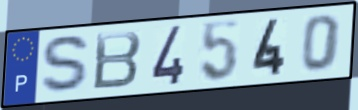0: (299, 12, 342, 74)
4: (149, 23, 187, 88), (250, 16, 288, 78)
5: (198, 18, 241, 85)
B: (91, 29, 144, 92)
S: (39, 33, 95, 97)
